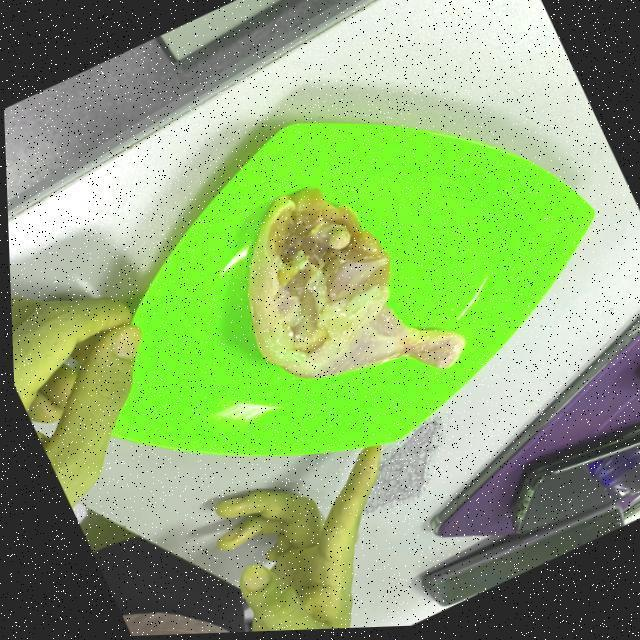quater: (248, 182, 464, 410)
